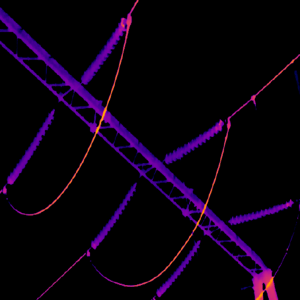insulator: (7, 109, 55, 185), (79, 17, 127, 85), (90, 183, 136, 250), (164, 117, 224, 163), (156, 238, 200, 298), (228, 198, 293, 225)
